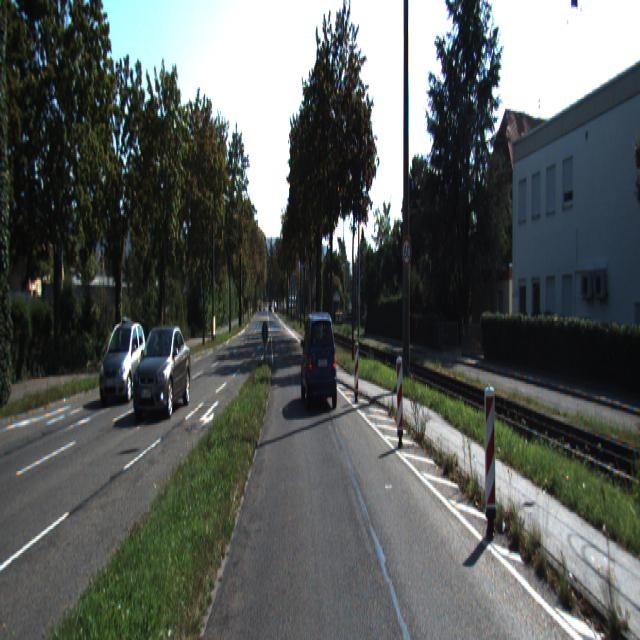Car: (132, 322, 191, 426), (100, 321, 148, 406), (300, 310, 338, 414)
